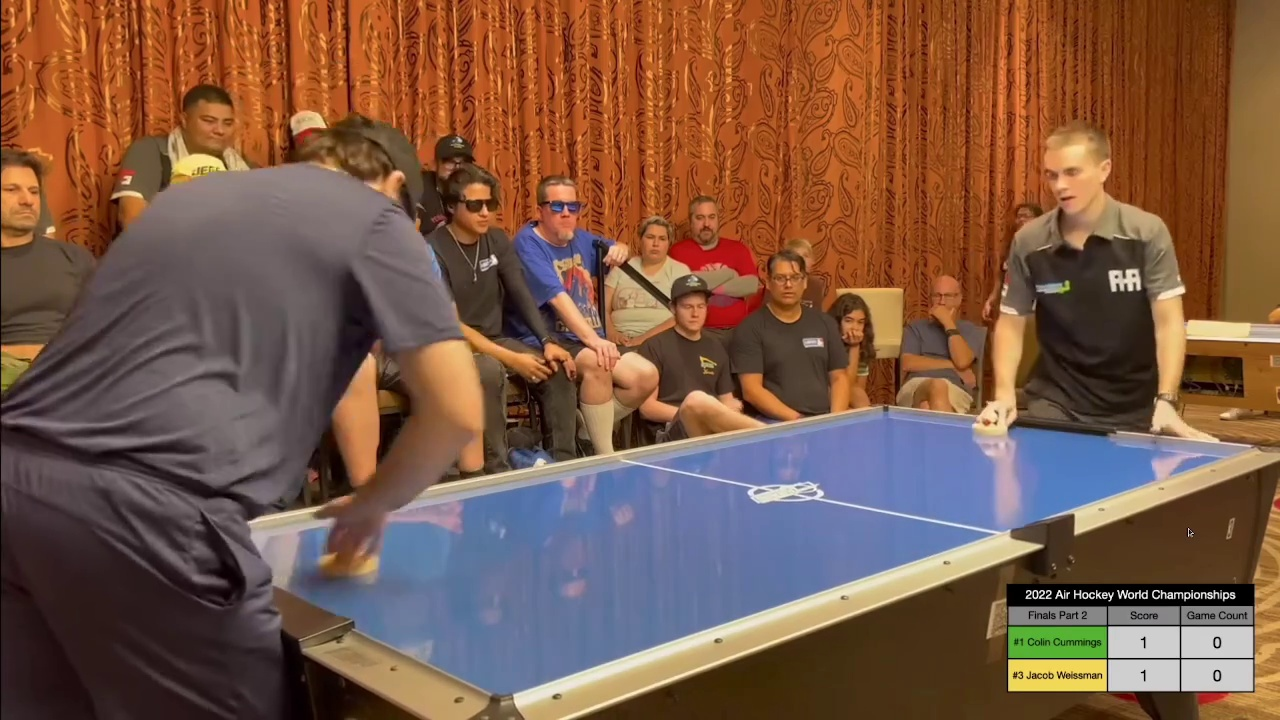player: (318, 536, 380, 581), (968, 407, 1013, 437)
table: (117, 405, 1280, 707)
